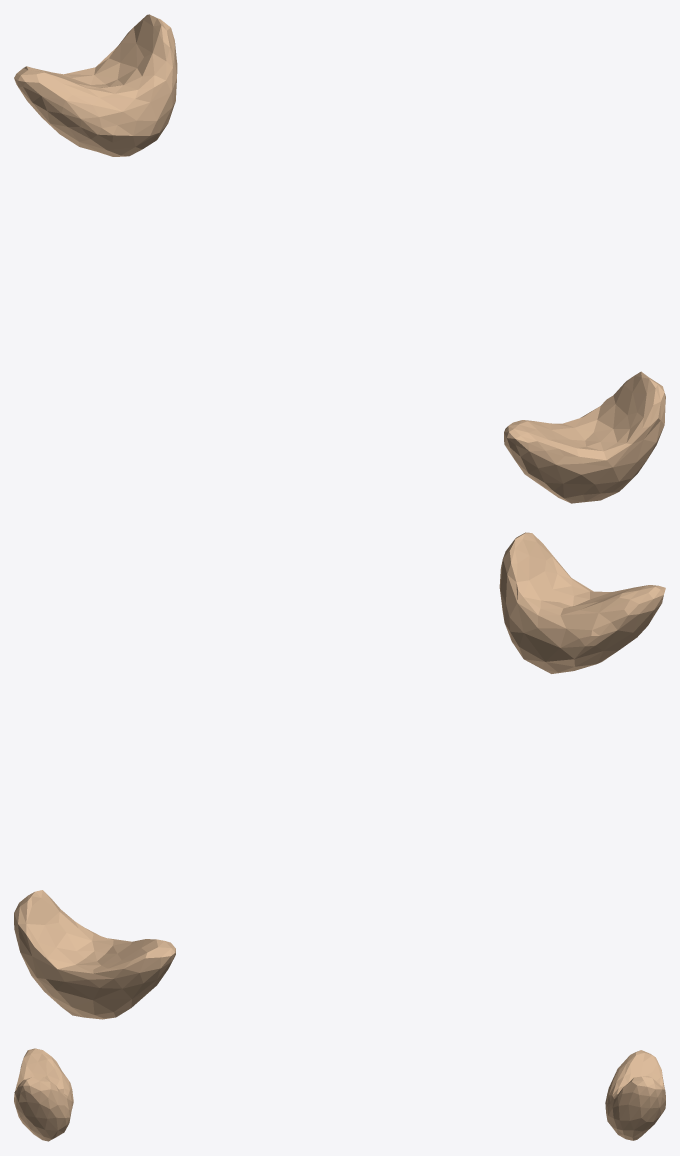
The picture shows the model from 3 angles, top to bottom: view 1: azimuth 30°, elevation 25°; view 2: azimuth 150°, elevation 25°; view 3: azimuth 270°, elevation 25°; orthographic projection. The views are drawn at different scales.
Parts seen in each view (by area): view 1: 123.obj; view 2: 123.obj; view 3: 123.obj.
Part boxes in pixels (x1,y1,x2,y2): 123.obj: [14, 14, 665, 503]; 123.obj: [14, 532, 665, 1019]; 123.obj: [14, 1048, 665, 1141].
Bounding box in the file's own units: 757 × 561 × 4451.
